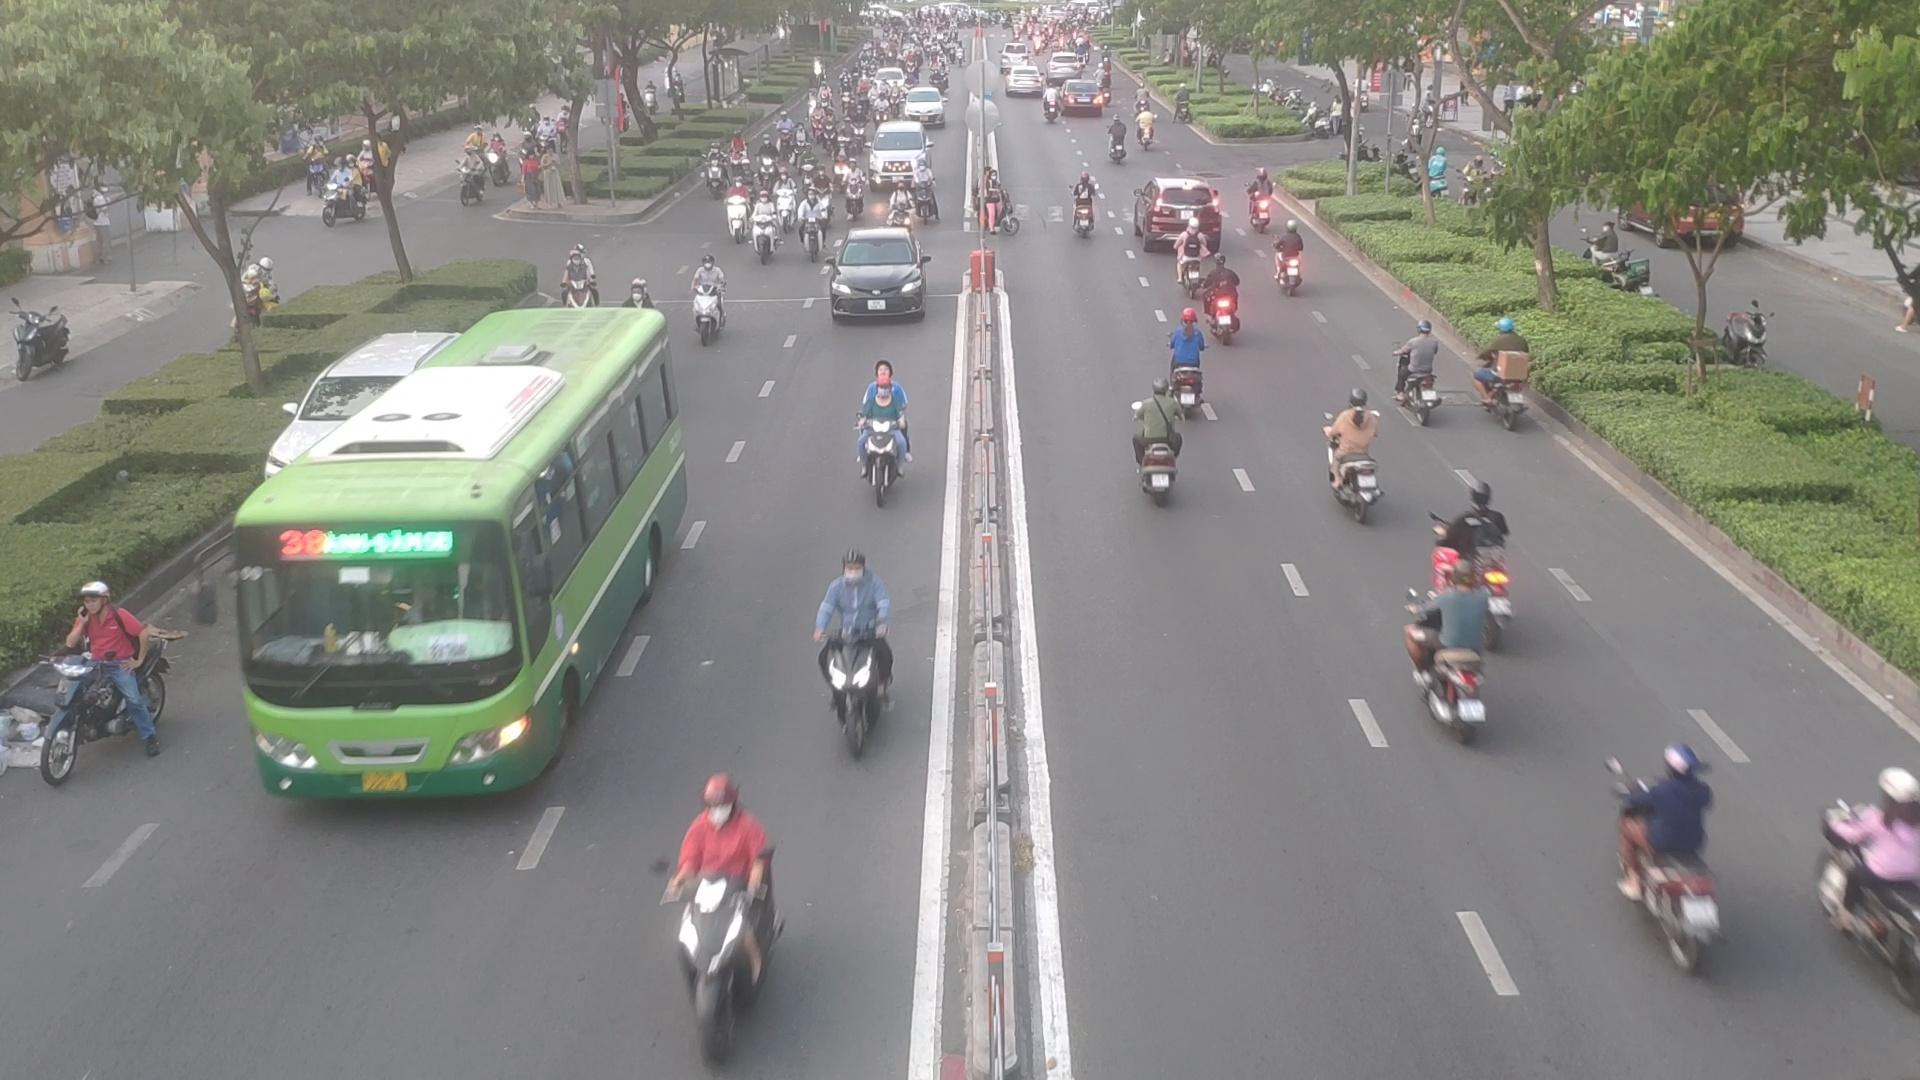bus: (241, 311, 671, 807)
car: (822, 233, 928, 324), (1126, 183, 1218, 255)
motorbike: (642, 793, 791, 1044), (1610, 741, 1726, 971), (1818, 757, 1920, 1004), (36, 589, 171, 756), (812, 560, 901, 752), (1404, 585, 1499, 745), (844, 363, 916, 498), (1315, 397, 1389, 520), (1469, 328, 1555, 430), (1122, 386, 1187, 505), (1389, 323, 1449, 419), (1166, 301, 1213, 407), (1197, 258, 1254, 343), (688, 256, 738, 343), (1274, 211, 1309, 294), (553, 251, 601, 310), (1062, 171, 1104, 237), (721, 186, 758, 243), (748, 207, 783, 264), (837, 165, 868, 223), (866, 152, 909, 190), (1098, 120, 1131, 164)
